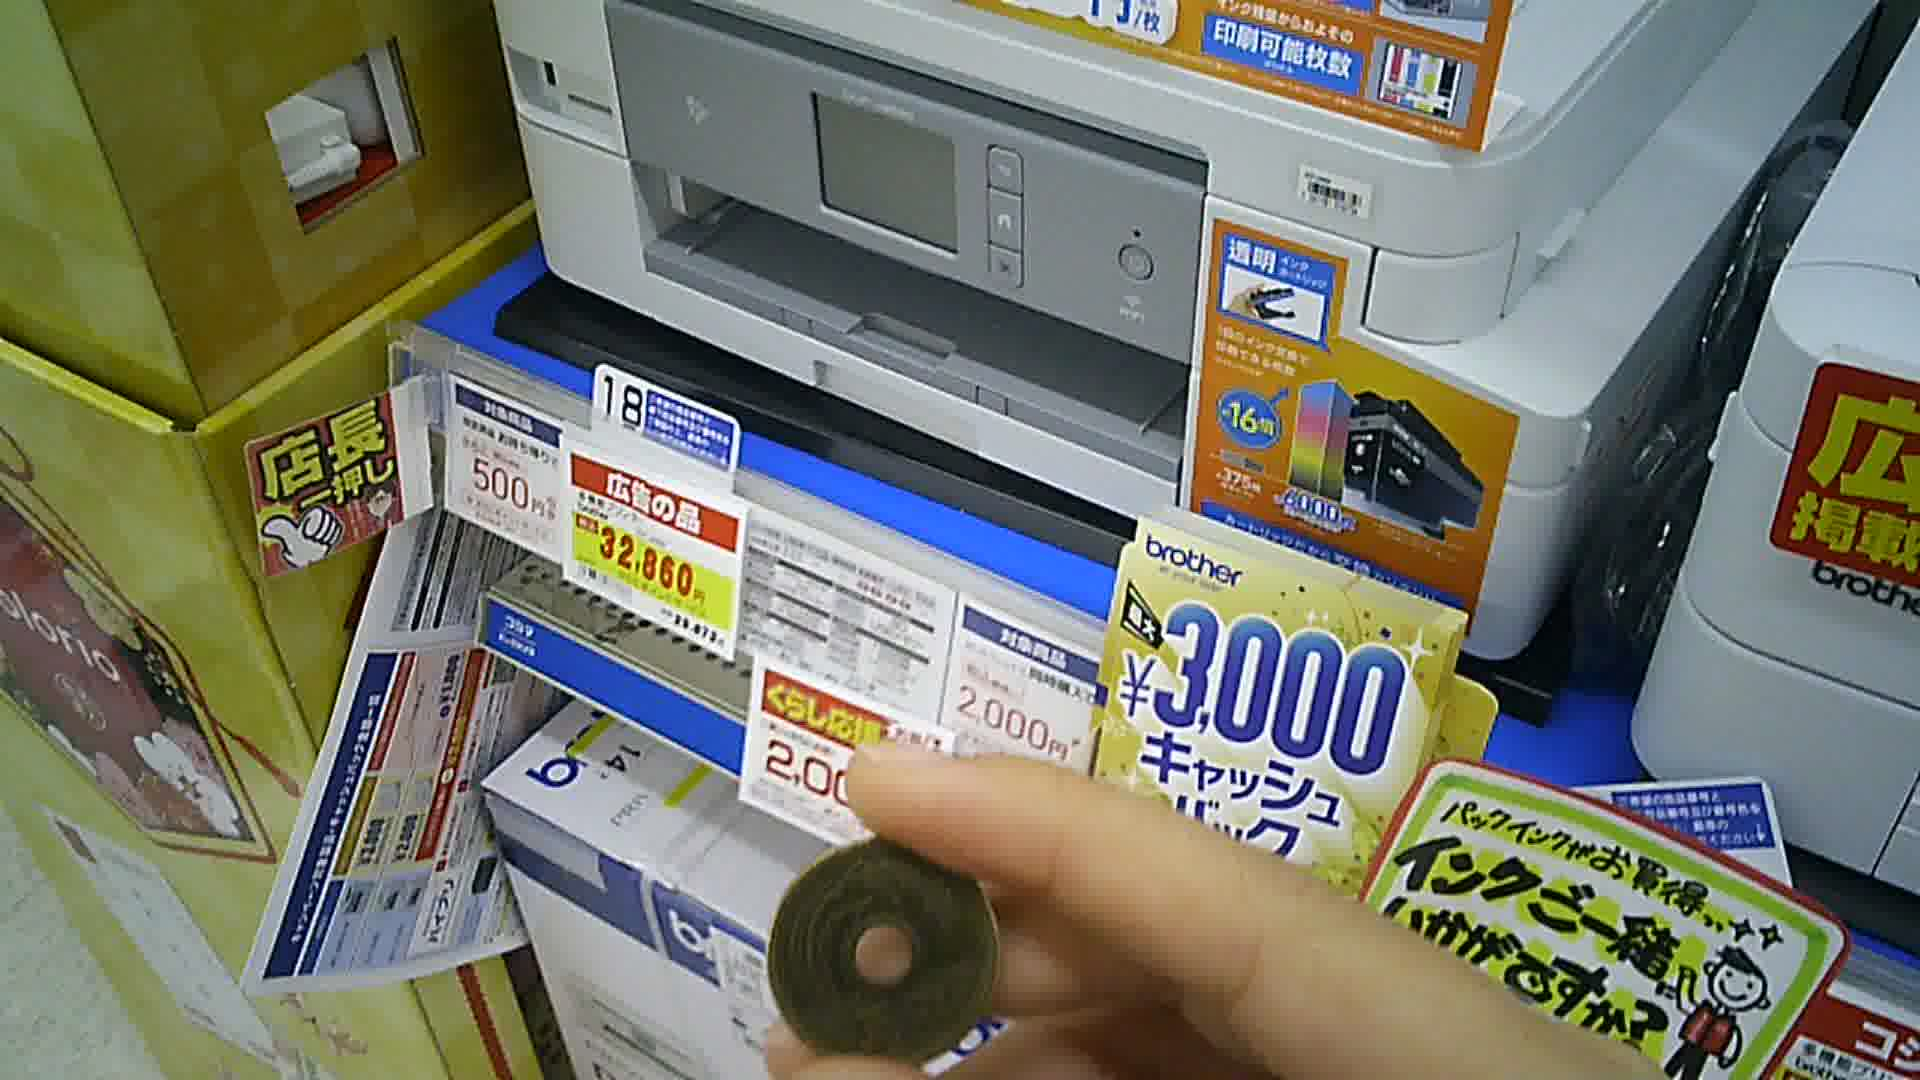5 Yen: (766, 818, 1014, 1073)
